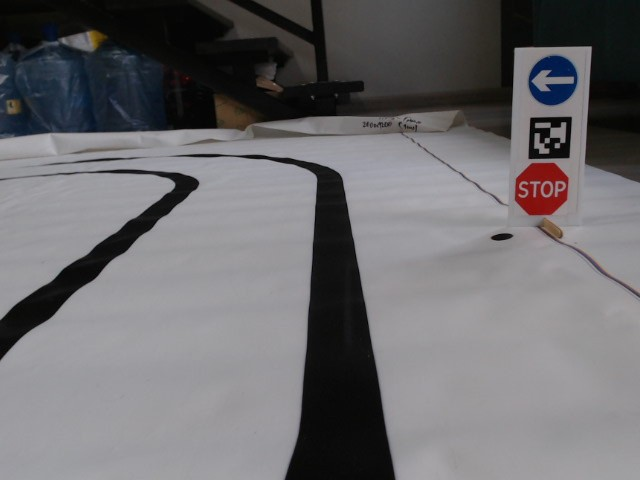Stop: (513, 160, 570, 216)
